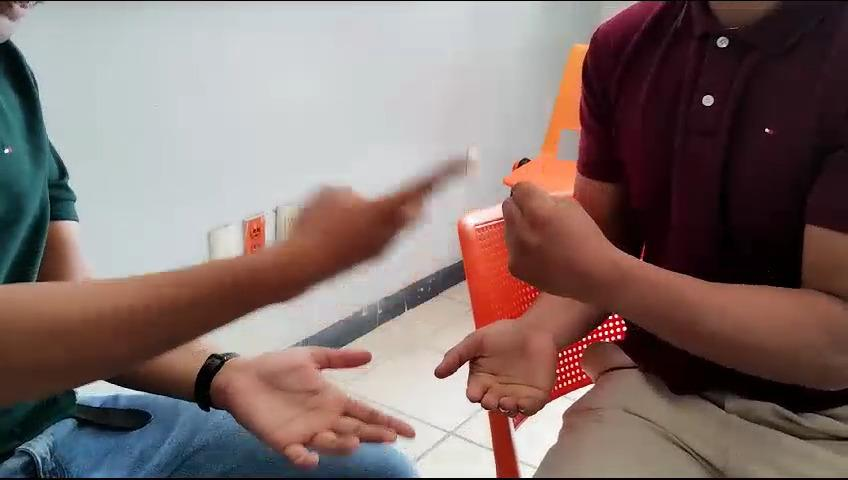Scissor: (232, 129, 480, 329)
Stone: (494, 177, 617, 316)
